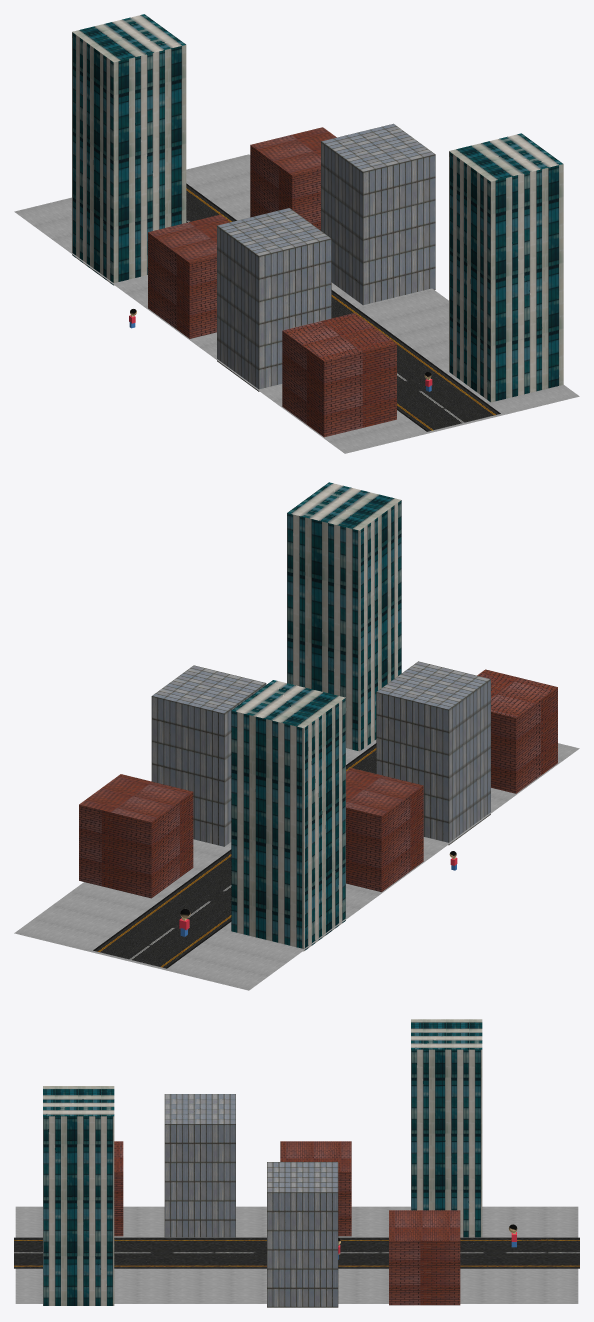
Rendered from mesto3_5.gltf.
3 renders of one model, top to bottom at view 1: azimuth 30°, elevation 25°; view 2: azimuth 150°, elevation 25°; view 3: azimuth 270°, elevation 25°, orthographic. The views are drawn at different scales.
Visible parts, largest first — view 1: bloki__levo.004, bloki_desno.004, cesta, bloki__levo.002, bloki_desno.002, bloki_desno.001, bloki_desno.003, bloki__levo.003; view 2: bloki_desno.004, bloki__levo.004, cesta, bloki_desno.002, bloki__levo.002, bloki__levo.003, bloki_desno.003, bloki_desno.001; view 3: cesta, bloki__levo.004, bloki_desno.004, bloki__levo.002, bloki_desno.002, bloki__levo.003, bloki_desno.003, bloki_desno.001.
Boxes of the visible parts, left/top/right/bottom form: bloki__levo.004: left=449, top=133, right=563, bottom=402; bloki_desno.004: left=72, top=14, right=186, bottom=285; cesta: left=14, top=154, right=579, bottom=453; bloki__levo.002: left=321, top=123, right=435, bottom=305; bloki_desno.002: left=217, top=208, right=331, bottom=391; bloki_desno.001: left=282, top=313, right=396, bottom=437; bloki_desno.003: left=148, top=214, right=230, bottom=338; bloki__levo.003: left=250, top=127, right=336, bottom=230; bloki_desno.004: left=231, top=680, right=345, bottom=951; bloki__levo.004: left=287, top=482, right=401, bottom=751; cesta: left=14, top=739, right=579, bottom=990; bloki_desno.002: left=376, top=661, right=490, bottom=845; bloki__levo.002: left=151, top=665, right=266, bottom=846; bloki__levo.003: left=79, top=774, right=193, bottom=898; bloki_desno.003: left=346, top=768, right=423, bottom=892; bloki_desno.001: left=477, top=669, right=557, bottom=793; cesta: left=14, top=1206, right=579, bottom=1303; bloki__levo.004: left=43, top=1086, right=114, bottom=1305; bloki_desno.004: left=411, top=1019, right=482, bottom=1237; bloki__levo.002: left=267, top=1162, right=338, bottom=1307; bloki_desno.002: left=164, top=1094, right=235, bottom=1237; bloki__levo.003: left=389, top=1210, right=460, bottom=1305; bloki_desno.003: left=280, top=1141, right=351, bottom=1236; bloki_desno.001: left=114, top=1141, right=123, bottom=1236.
Size of the model in its own units: 11.23 by 8.41 by 22.73.
23 materials, 23 textured.
